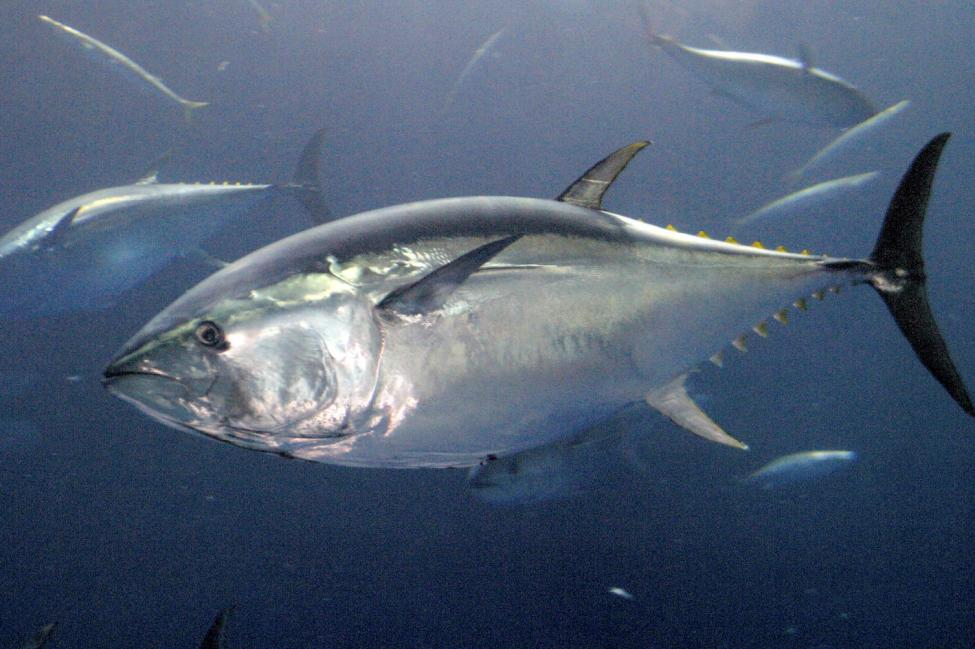Bluefina Tuna: (104, 143, 964, 505)
